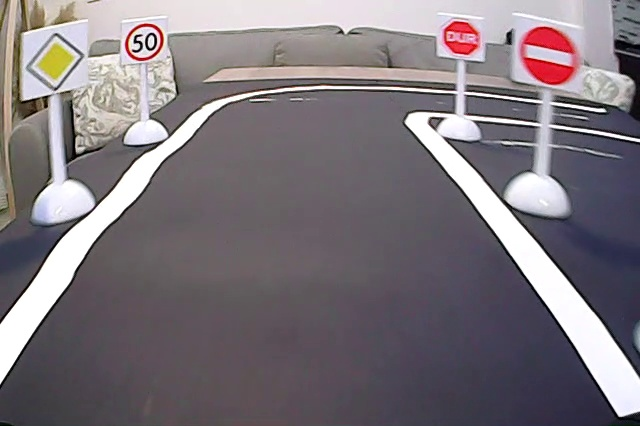do not enter: (516, 18, 581, 91)
speed limit 50: (120, 21, 168, 65)
stop sign: (438, 15, 482, 57)
